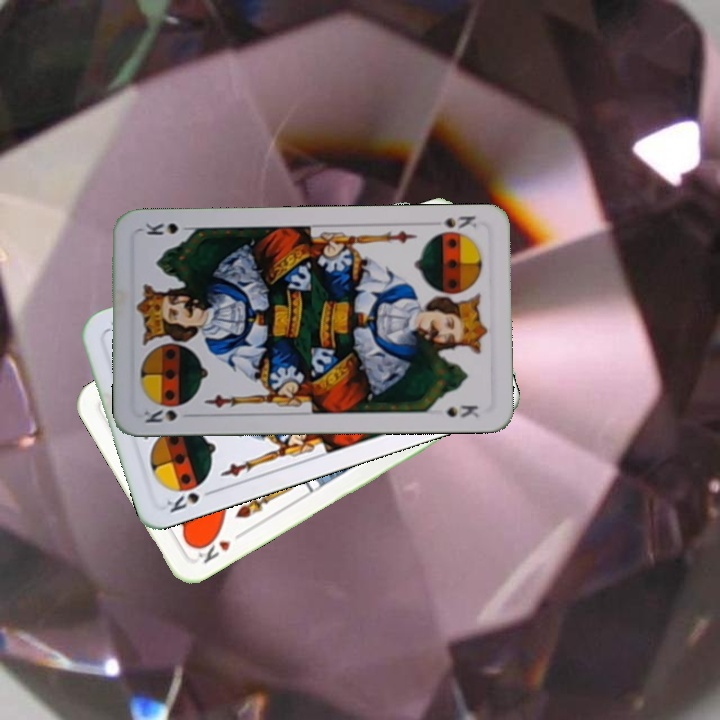HK: (190, 527, 247, 567)
SK: (161, 478, 219, 515), (140, 405, 197, 425), (439, 211, 479, 232)
